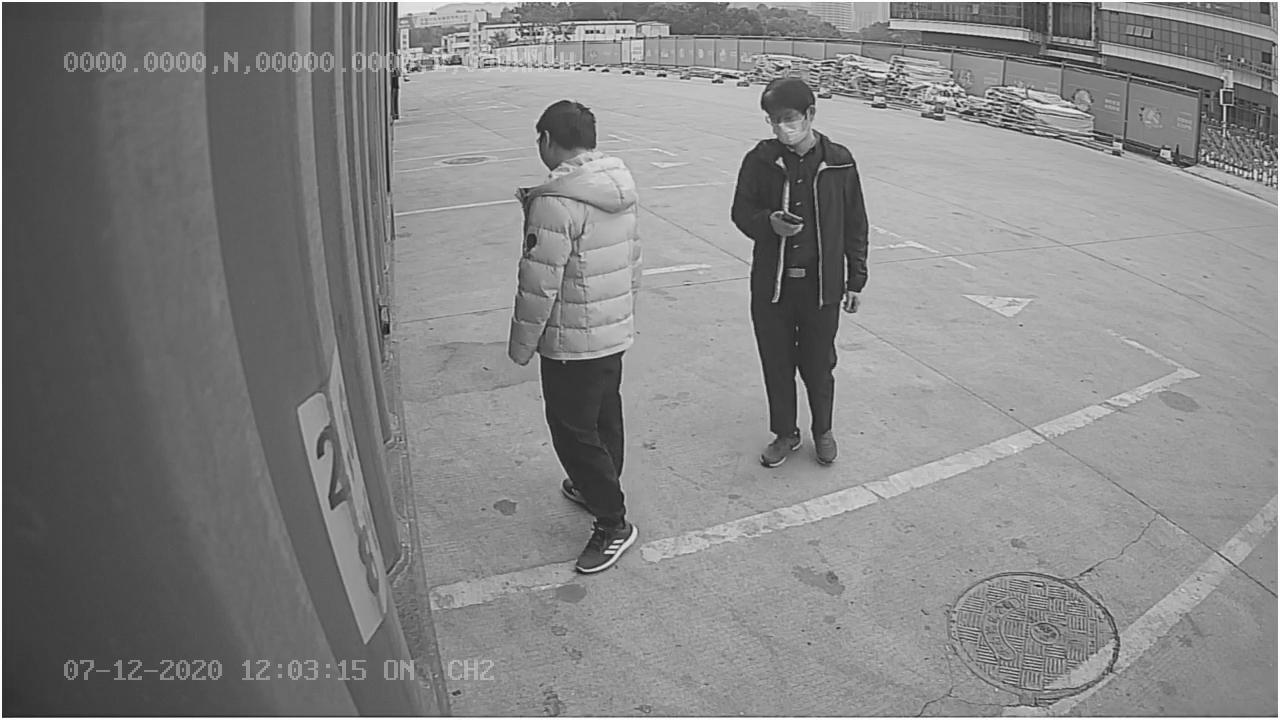person: (508, 95, 647, 573), (728, 73, 874, 473)
